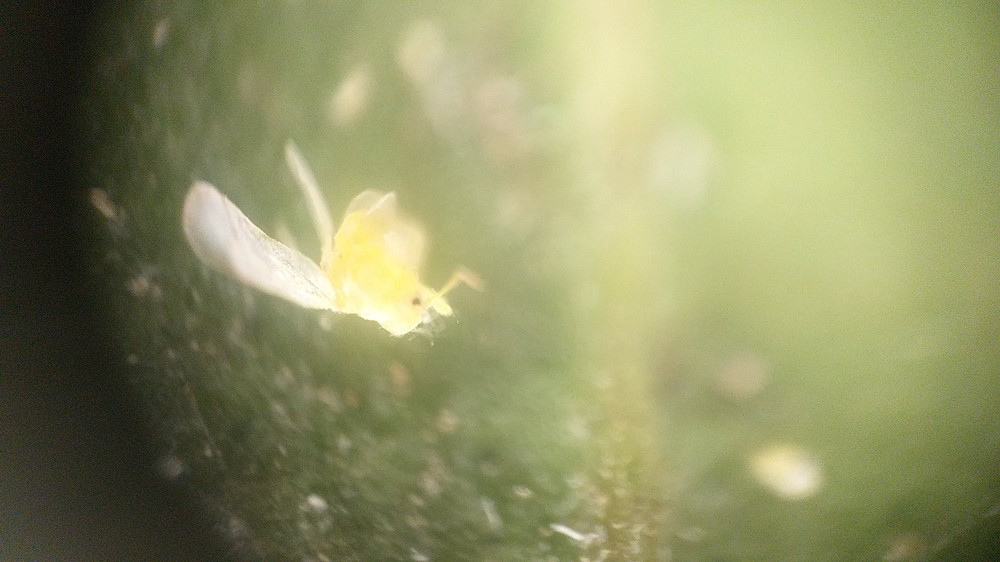Mosca Blanca: (168, 112, 514, 399)
